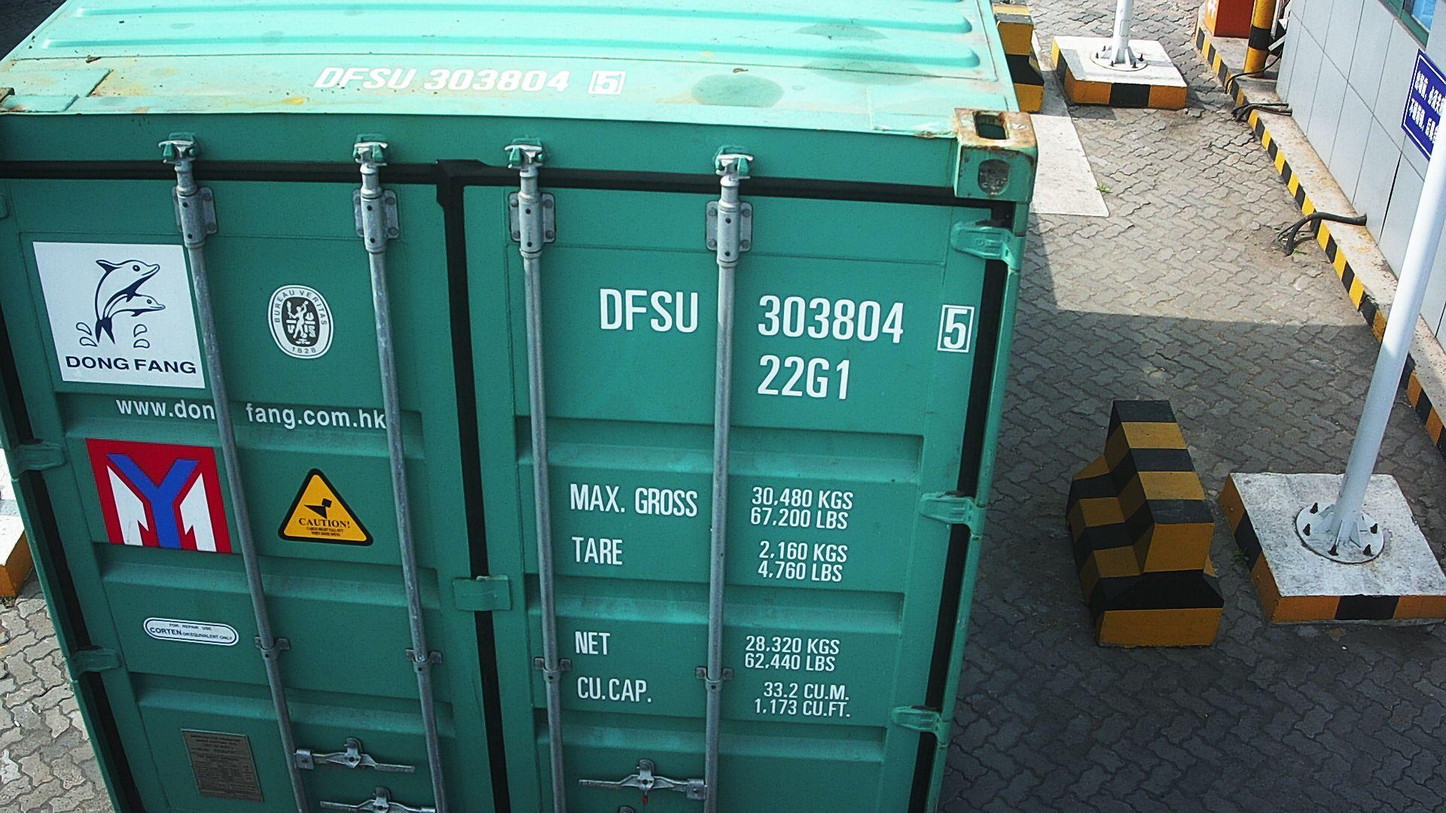container-numbers: (593, 286, 982, 356), (306, 62, 633, 100), (755, 352, 856, 404)
